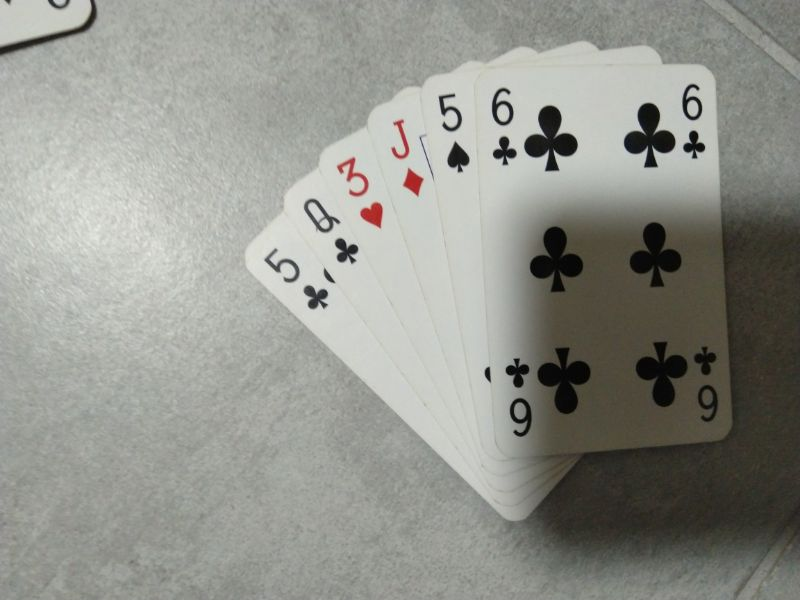3h: (332, 155, 388, 231)
5c: (259, 243, 333, 314)
5s: (432, 90, 473, 177)
6c: (502, 353, 539, 444), (484, 80, 521, 168), (691, 341, 725, 427), (677, 81, 710, 164)
Jd: (383, 116, 430, 198)
Qc: (299, 195, 364, 269)
